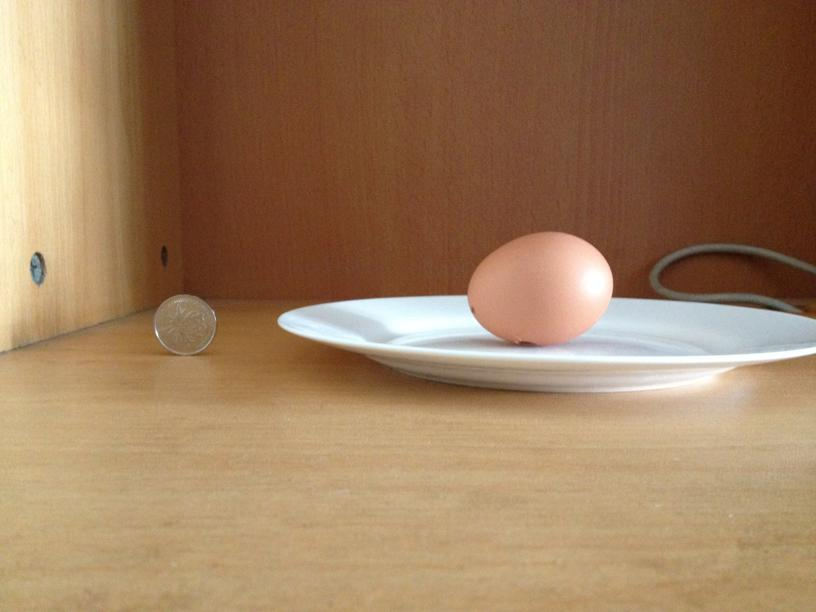coin: (151, 292, 216, 355)
egg: (464, 227, 612, 346)
